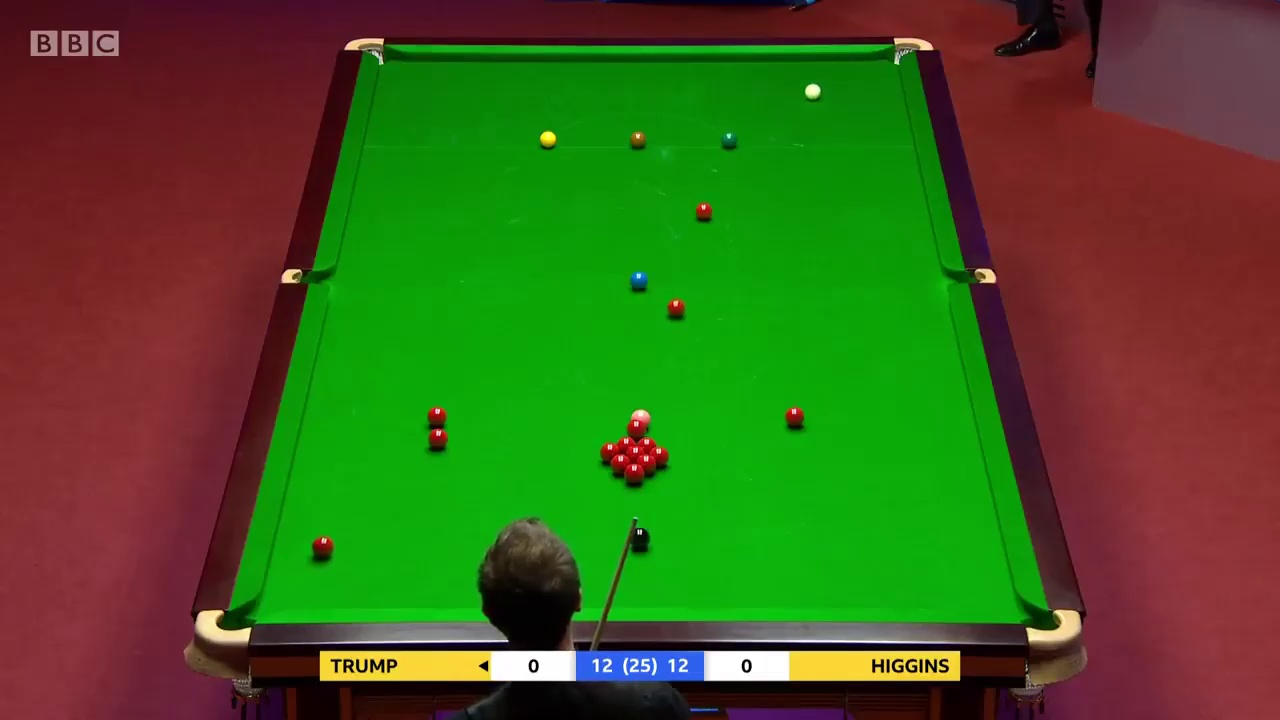ball: (309, 535, 334, 560), (782, 407, 805, 428), (424, 430, 447, 451), (802, 82, 826, 102), (695, 200, 714, 220), (665, 301, 685, 320), (539, 128, 558, 147), (717, 131, 737, 148), (631, 270, 648, 290), (629, 129, 646, 147)
